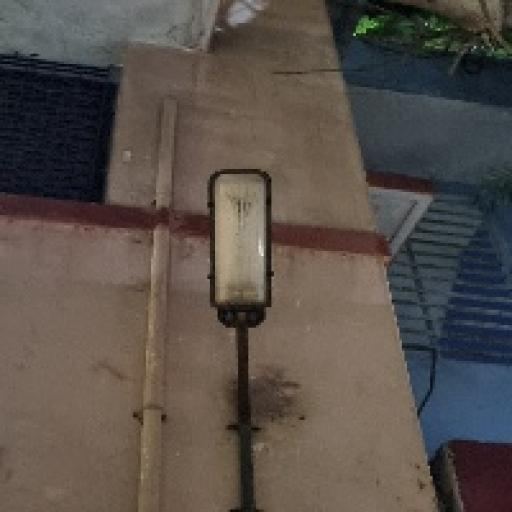Not Working: (170, 144, 314, 350)
